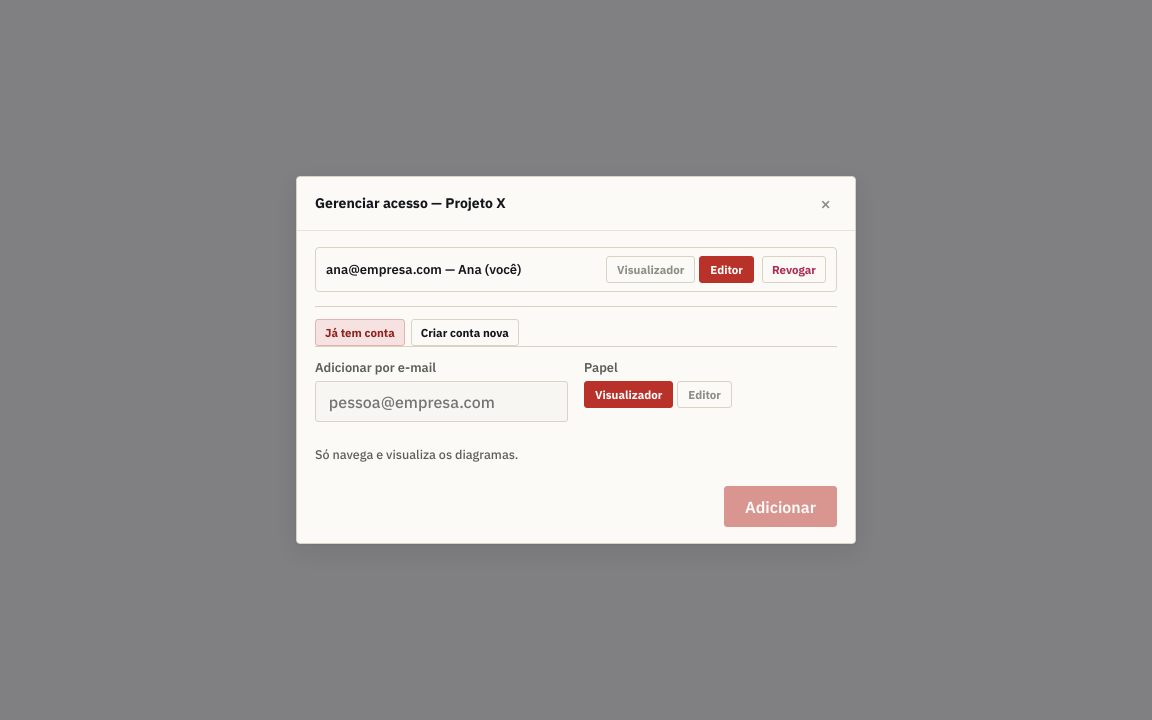
AccessManagementModal (TASK-013) › CA-03: e-mail sem conta correspondente mostra a mensagem clara, sem adicionar
This screenshot has width=1152, height=720.
Expected: the text "ana@empresa.com — Ana (você)" is shown, [326,260,522,278]
Step 1. Type "naoexiste@empresa.com" into the field labelled "Adicionar por e-mail" → (442,402), box [315,381,568,422]
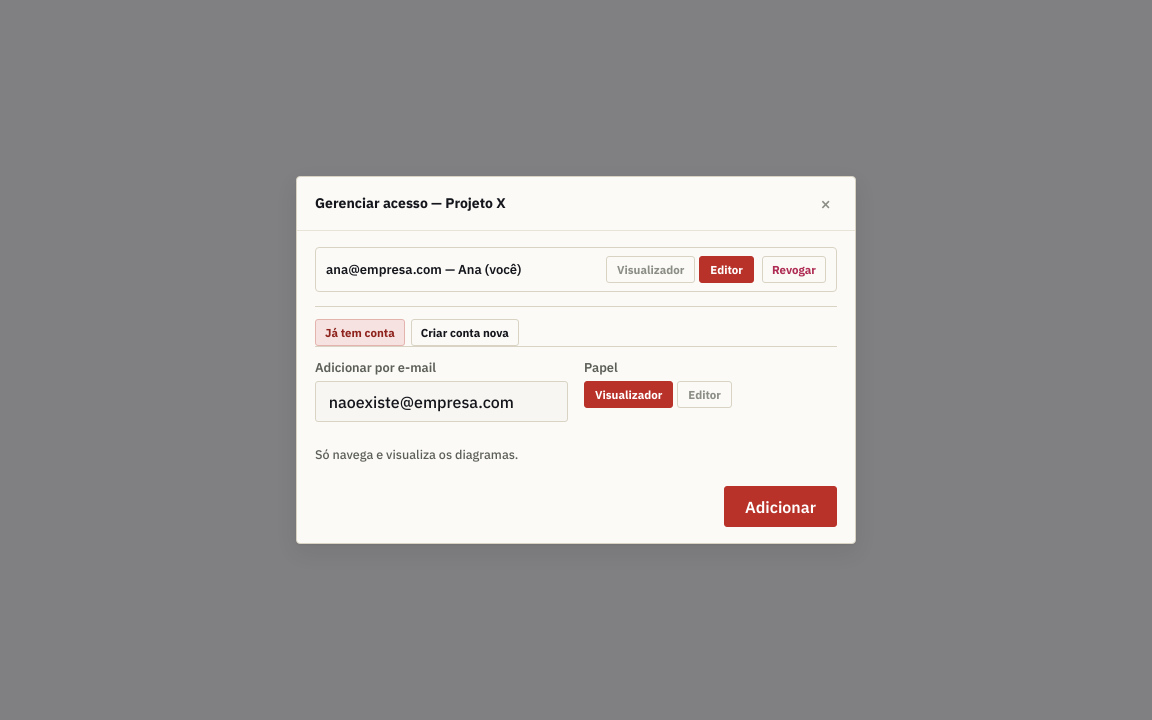
Step 2. Click the button "Adicionar" → (780,507), box [724,486,837,528]
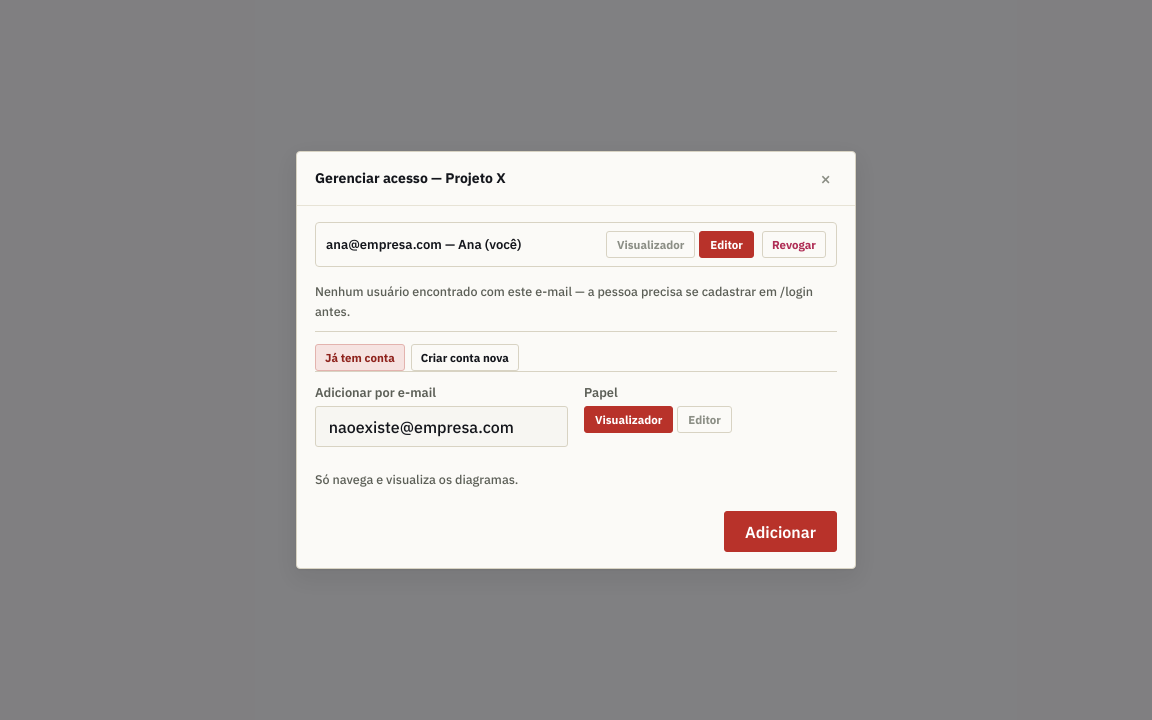
Now the text "Nenhum usuário encontrado com este e-mail" is shown, box [315,282,813,318]
